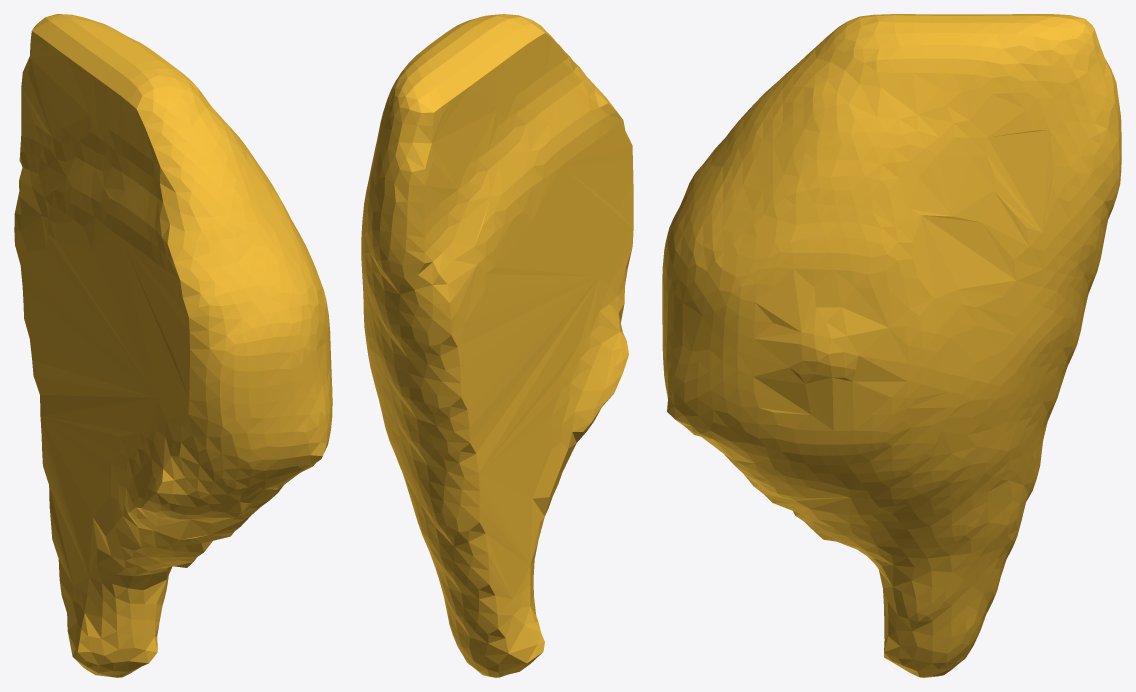
Rendered from Model_5_RH__Olfactory_bulb_(OB).obj.
3 views of the same model, side by side, from view 1: azimuth 30°, elevation 25°; view 2: azimuth 150°, elevation 25°; view 3: azimuth 270°, elevation 25° (orthographic). The views are drawn at different scales.
Bounding box in the file's own units: 1.19 × 3.68 × 2.29.
